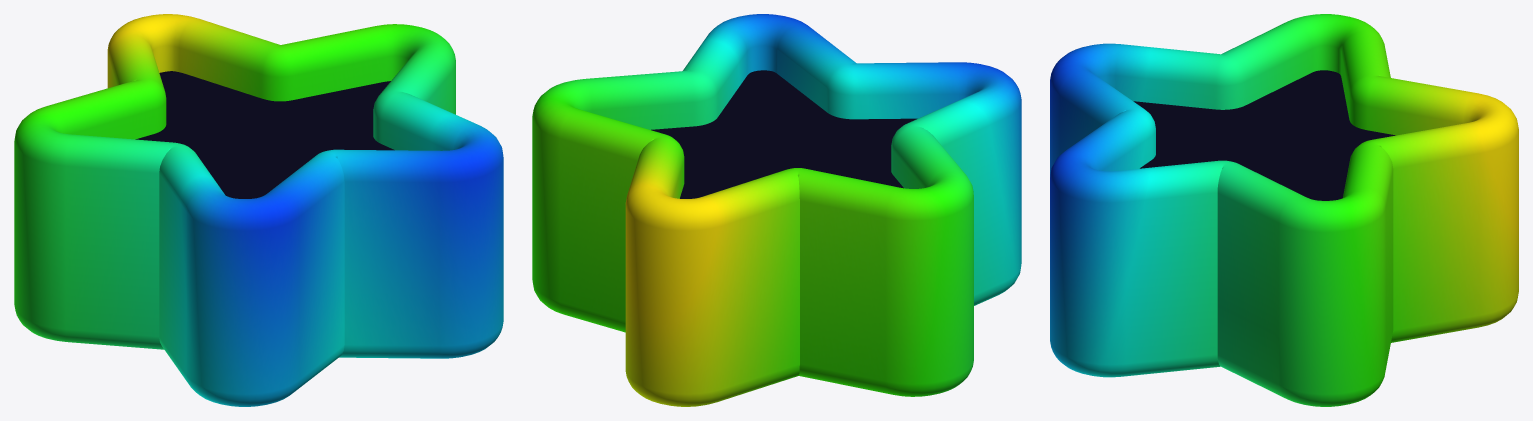
The model's file is Particle-9.dae.
3 views of the same model, side by side, from view 1: azimuth 30°, elevation 25°; view 2: azimuth 150°, elevation 25°; view 3: azimuth 270°, elevation 25° (orthographic).
Parts seen in each view (by area): view 1: Particle; view 2: Particle; view 3: Particle.
Boxes of the visible parts, box(x1,y1,x2,y2) form: Particle: box(14, 14, 503, 406); Particle: box(532, 14, 1021, 406); Particle: box(1050, 14, 1518, 406).
Bounding box in the file's own units: 0.1309 × 0.06 × 0.1261.
Materials: 2 (1 with a texture image).
